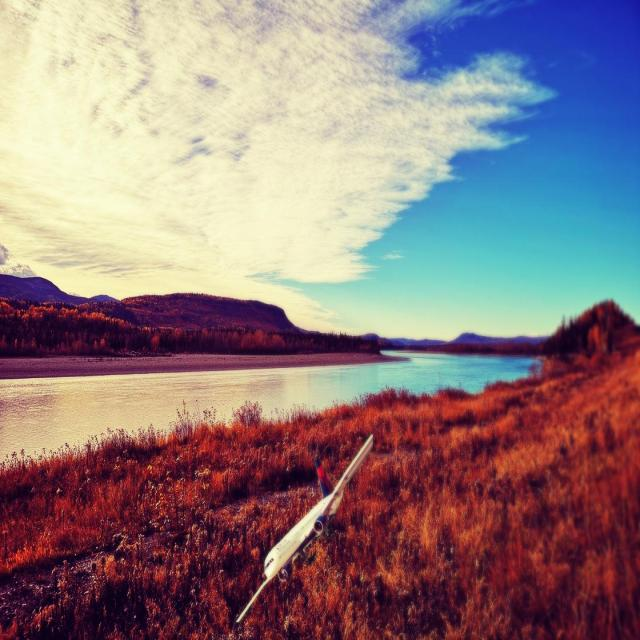airplane: (234, 432, 374, 625)
